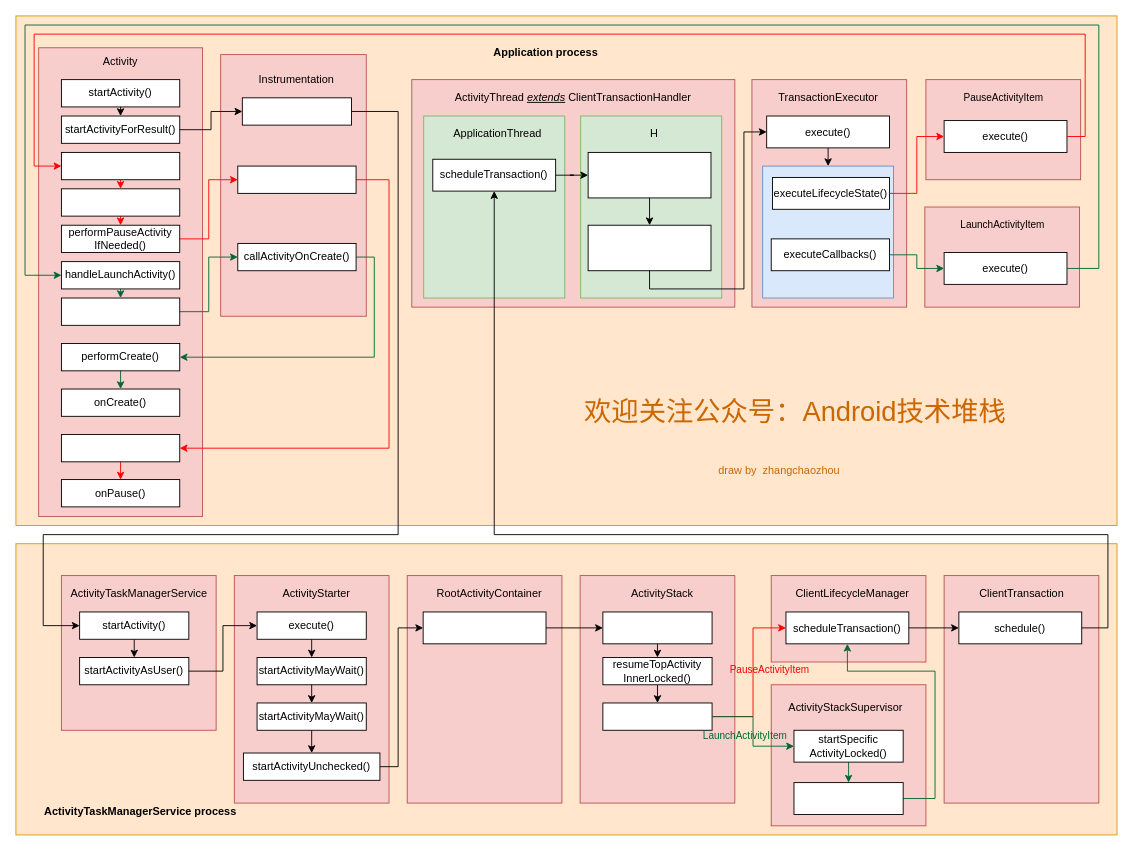
Some shapes in this 1133 by 851 pixel diagram are drawn without their labels. Each missing label, with the centre of its shape:
"callActivityOnPause()" belongs at (296,179).
"execStartActivity()" belongs at (296,111).
"handleMessage( EXECUTE_ TRANSACTION)" belongs at (649,247).
"handlePauseActivity()" belongs at (120,166).
"performLaunchActivity()" belongs at (120,311).
"performPause()" belongs at (120,448).
"performPauseActivity()" belongs at (120,202).
"realStart ActivityLocked()" belongs at (848,798).
"resumeFocusedStacks TopActivities()" belongs at (484,627).
"resumeTopActivity UncheckedLocked()" belongs at (657,627).
"sendMessage( EXECUTE_ TRANSACTION)" belongs at (649,175).
"startPausingLocked()" belongs at (657,716).
